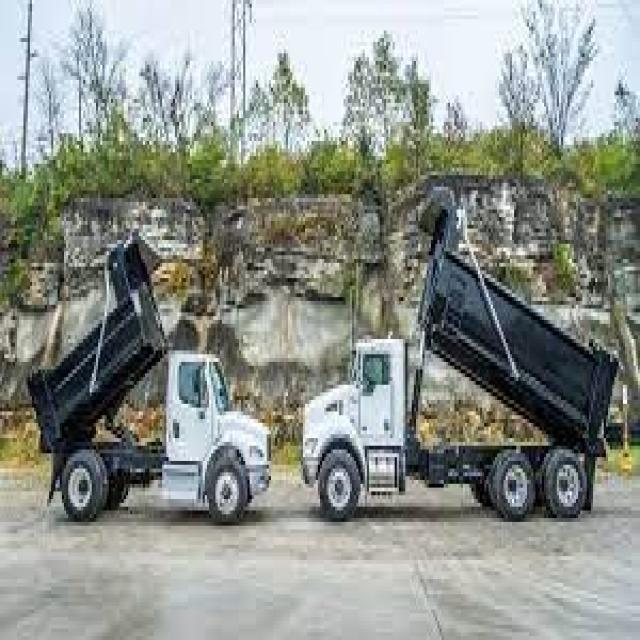dump_truck: (300, 222, 620, 527), (26, 233, 272, 542)
